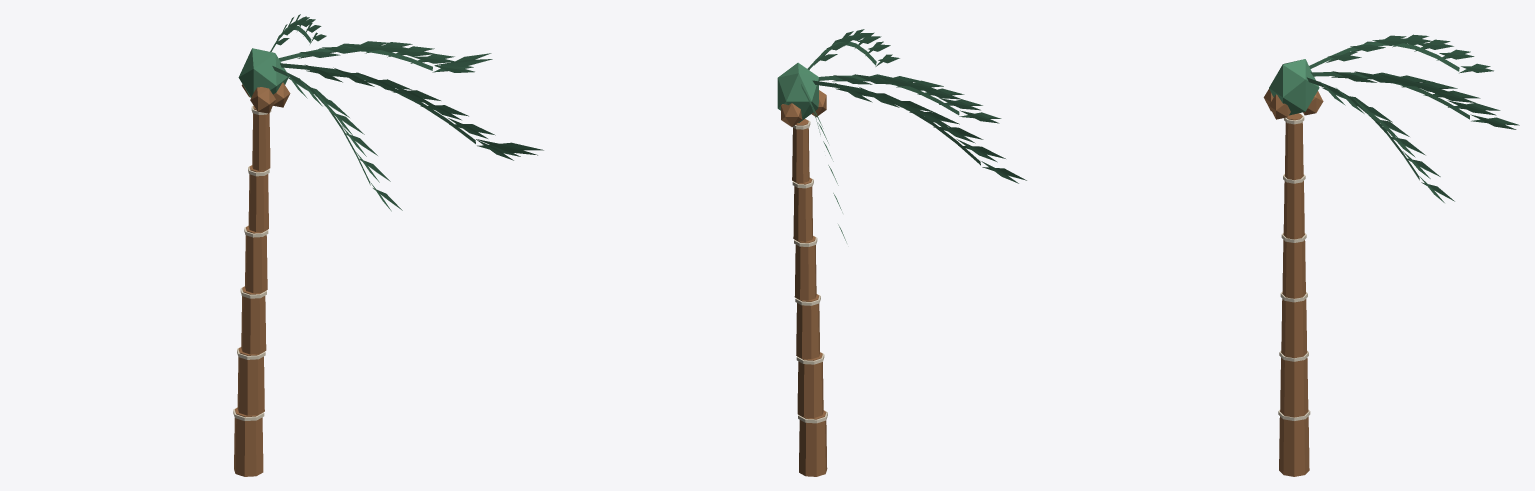
The model's file is LM_PROP_PalmMamak.glb.
3 views of the same model, side by side, from view 1: azimuth 30°, elevation 25°; view 2: azimuth 150°, elevation 25°; view 3: azimuth 270°, elevation 25° (orthographic). The views are drawn at different scales.
Visible parts, largest first — view 1: LM_PROP_PalmMamak; view 2: LM_PROP_PalmMamak; view 3: LM_PROP_PalmMamak.
Boxes of the visible parts, box(x1,y1,x2,y2) form: LM_PROP_PalmMamak: box(233, 14, 543, 476); LM_PROP_PalmMamak: box(777, 29, 1026, 476); LM_PROP_PalmMamak: box(1263, 34, 1519, 476).
Bounding box in the file's own units: 8.07 × 7.06 × 7.15.
